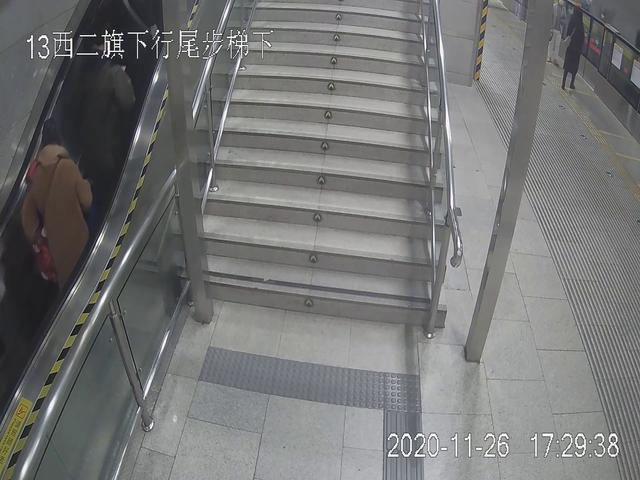person: (16, 108, 91, 297), (556, 5, 588, 92)
